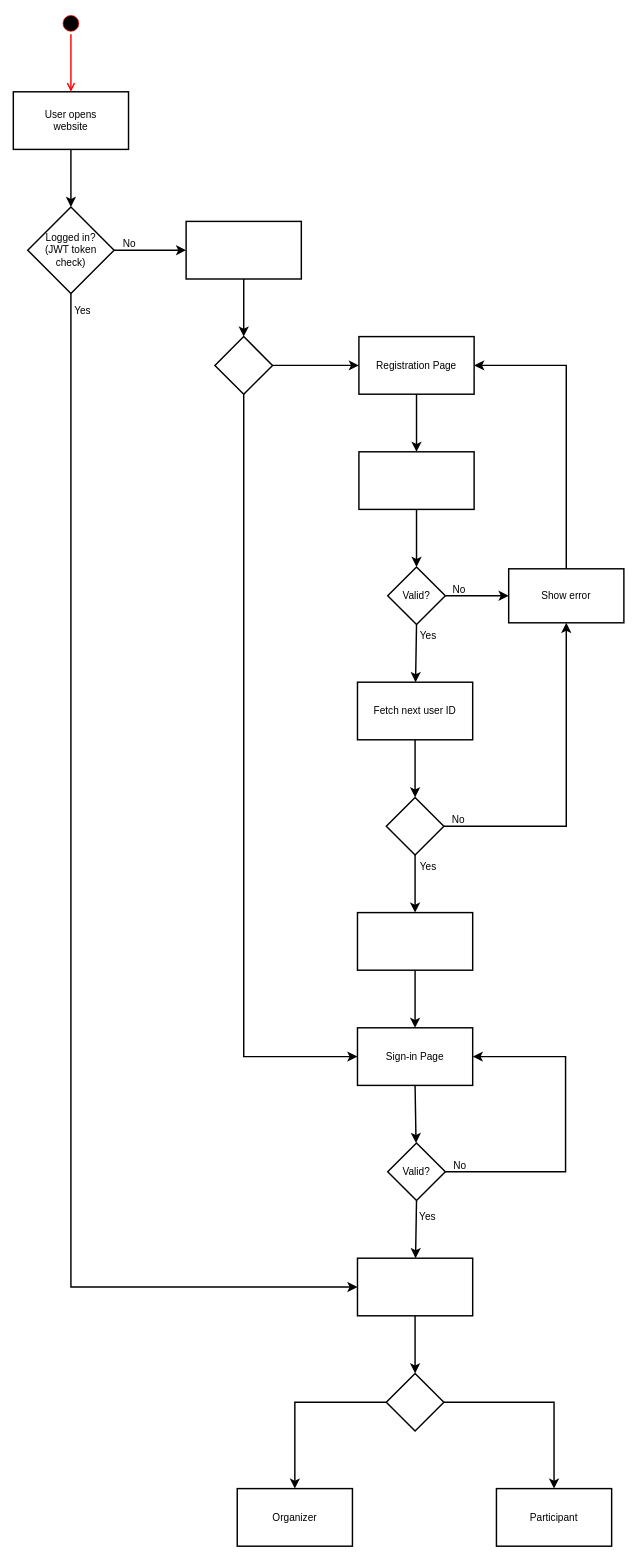
This 636x1560 diagram has some shape labels left out. The shapes that lost their labels are listed below. From the top down, each one's box as (x1, y1, x2, y2) in pixels, then its label:
(185, 220, 302, 279): Choose sign-in / register page
(358, 451, 474, 510): User enters credentials
(385, 796, 444, 855): Success?
(356, 912, 473, 971): Show success message
(356, 1257, 473, 1316): Homepage
